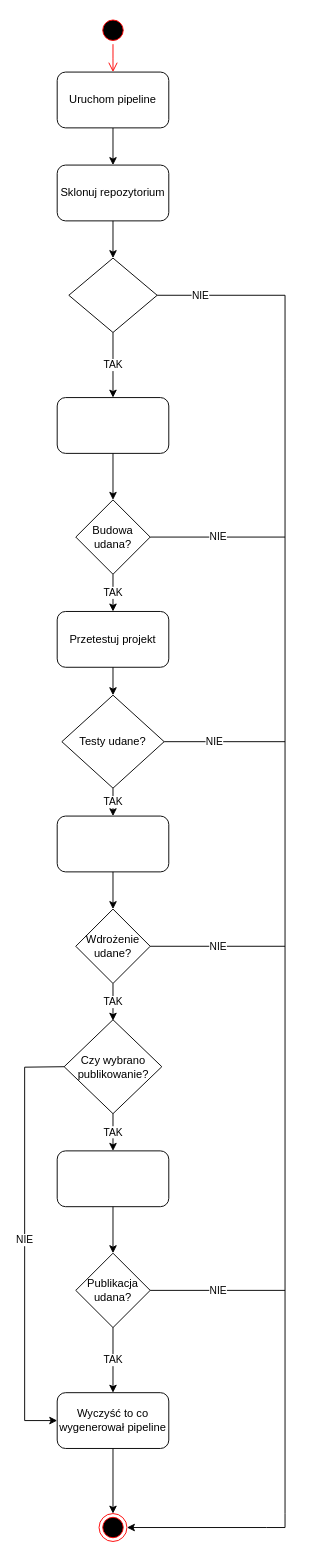
This 309x1558 diagram has some shape labels left out. Here are the shapes that lost their labels. From the top down, the centre of each, then its label:
At point (112, 294): "Klonowanie udane?".
At point (112, 425): "Zbuduj projekt".
At point (112, 843): "Wdróż projekt".
At point (112, 1178): "Opublikuj obraz z programem (Docker Hub)".
